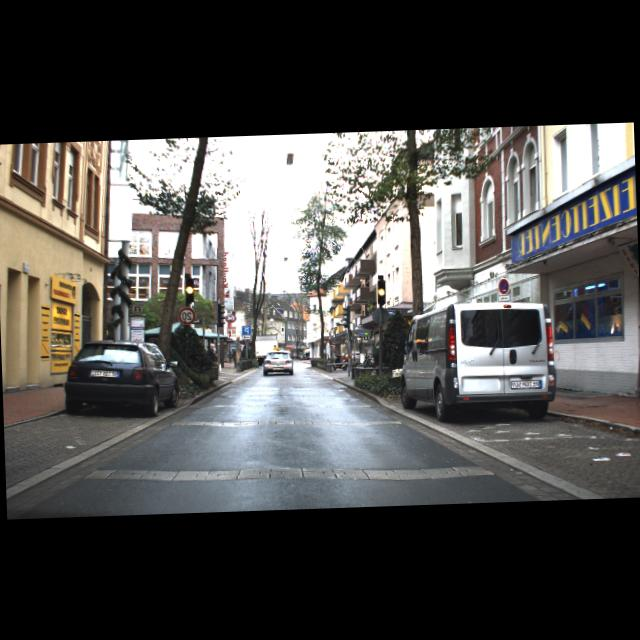prohibitory: (177, 305, 196, 324)
